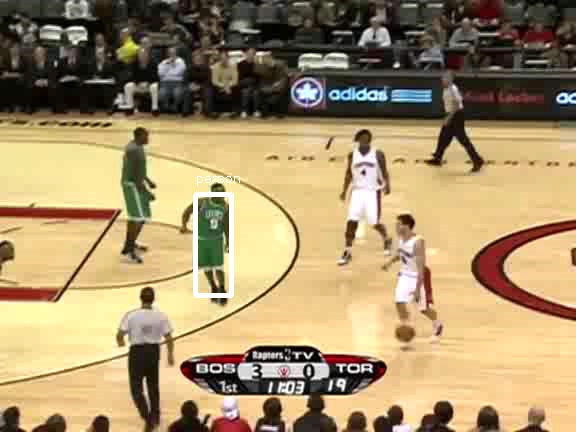person: (194, 196, 228, 277), (193, 196, 227, 277), (195, 196, 229, 277), (194, 195, 228, 276), (194, 197, 228, 278)
target_negative: (158, 22, 505, 415), (180, 113, 497, 181), (400, 143, 523, 286), (111, 274, 264, 329), (387, 68, 525, 91), (504, 107, 506, 399)
